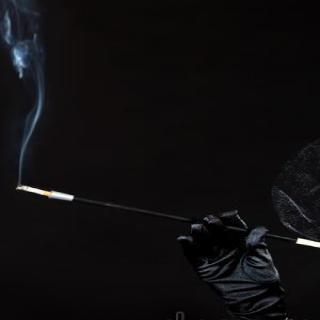smoke: (9, 0, 54, 80)
